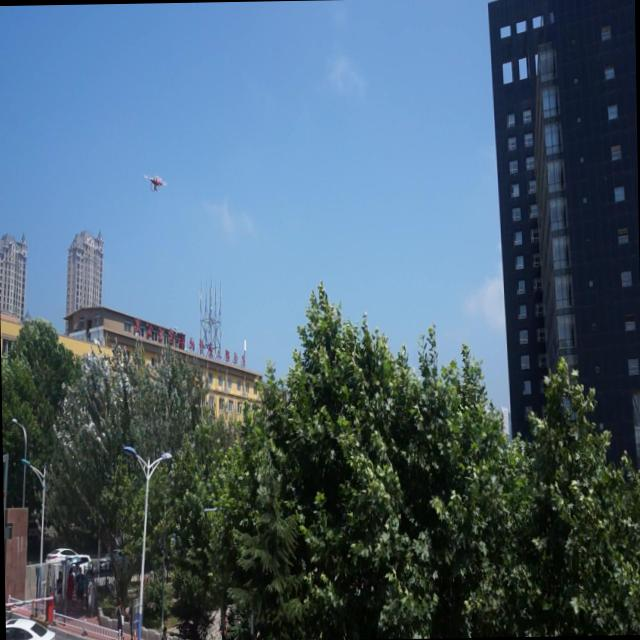drone: (143, 168, 169, 195)
